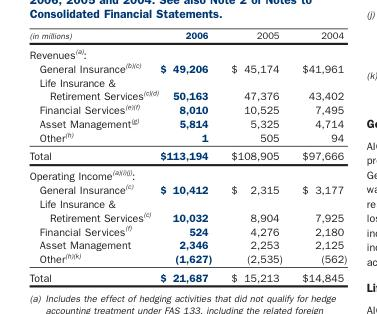table: (28, 29, 346, 282)
table column: (28, 29, 158, 282), (220, 29, 291, 282), (158, 29, 220, 282), (291, 29, 346, 282)
table column header: (28, 29, 346, 43)
table projected row header: (28, 43, 346, 60), (28, 164, 346, 181)
table row: (28, 195, 346, 223), (28, 74, 346, 101), (28, 146, 346, 164), (28, 43, 346, 60), (28, 129, 346, 146), (28, 164, 346, 181), (28, 250, 346, 267), (28, 267, 346, 282), (28, 29, 346, 43), (28, 60, 346, 74), (28, 101, 346, 115), (28, 115, 346, 129), (28, 181, 346, 195), (28, 223, 346, 237), (28, 237, 346, 250)
